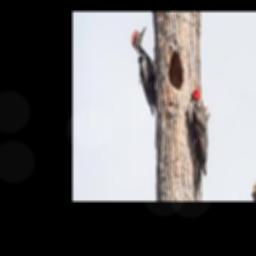Woodpecker: (130, 24, 156, 115), (188, 88, 207, 200)
